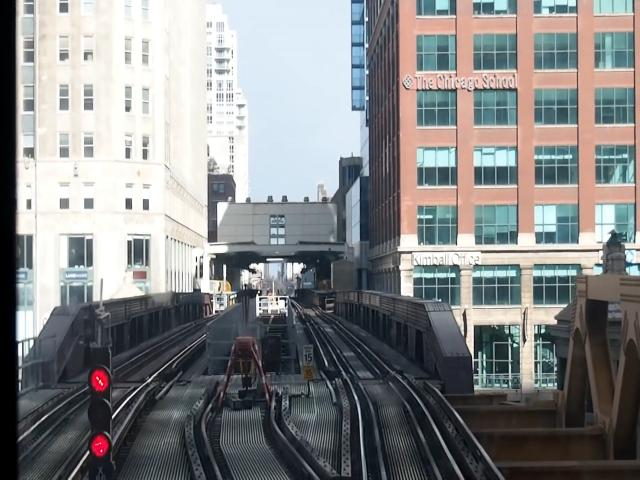signal light: (88, 344, 116, 480)
